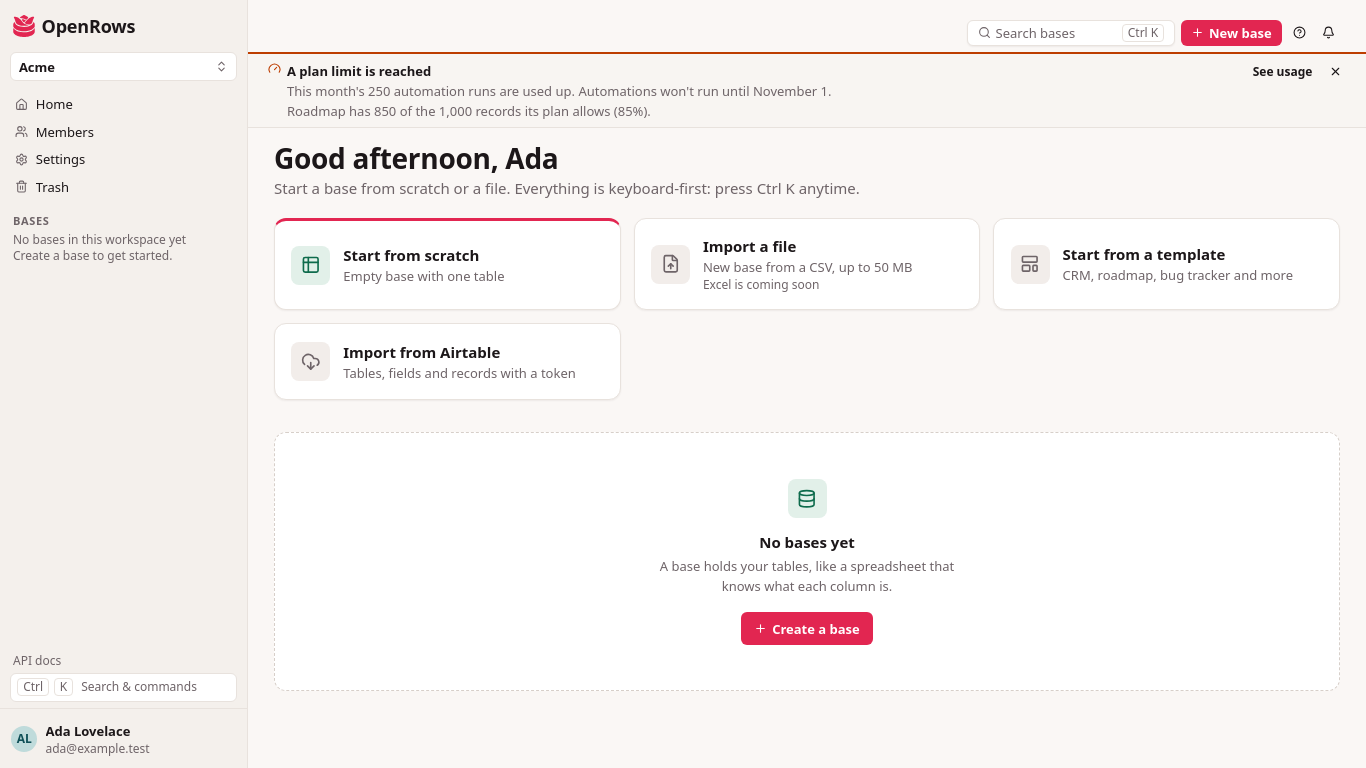
the workspace usage page (#128) › the workspace banner: owners and creators, at 80% and 100%, dismissible (#130)
Expected: the message with test id "usage-banner" shows "A plan limit is reached", [287, 62, 431, 80]
Expected: the message with test id "usage-banner" shows "This month's 250 automation runs are used up.", [287, 82, 832, 100]
Step 1. Click the button named "Dismiss" → (1335, 72), box [1324, 60, 1347, 83]
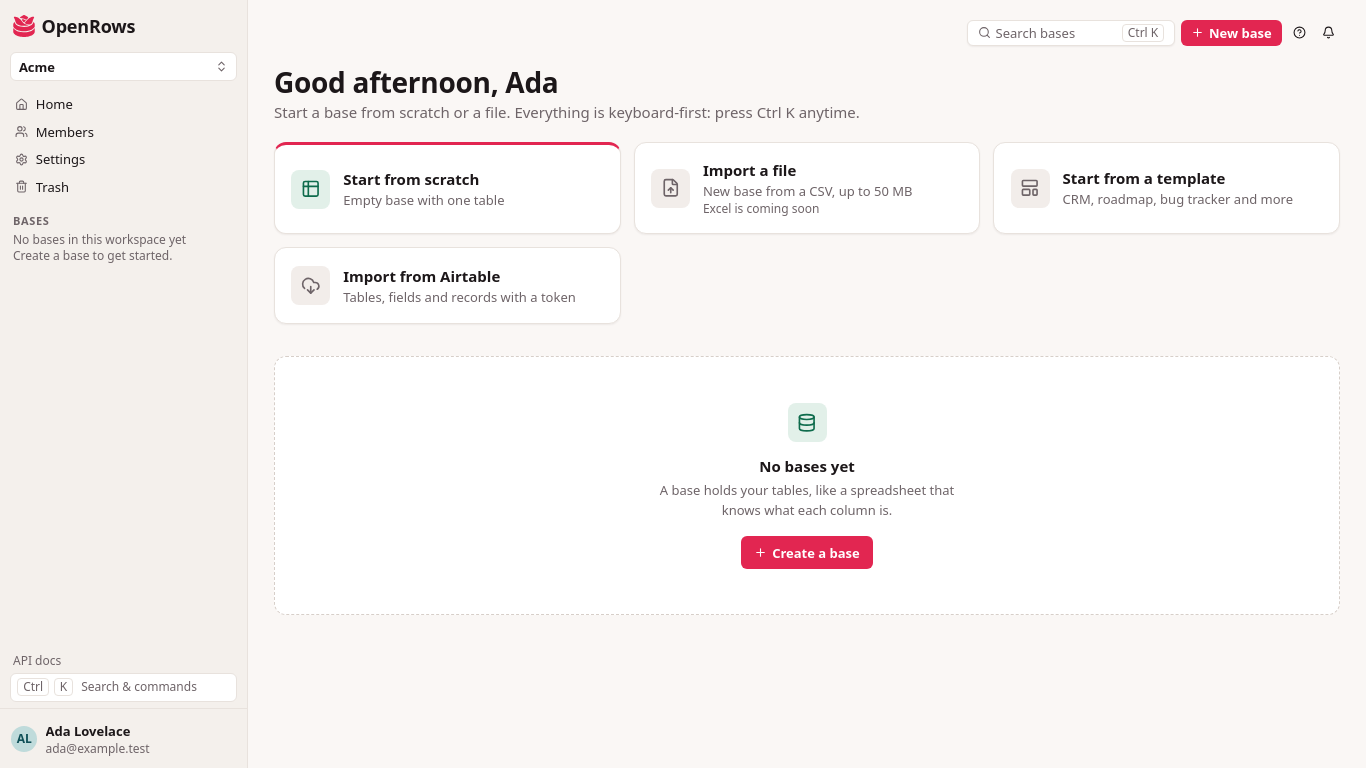
Expected: the message with test id "usage-banner" is gone
